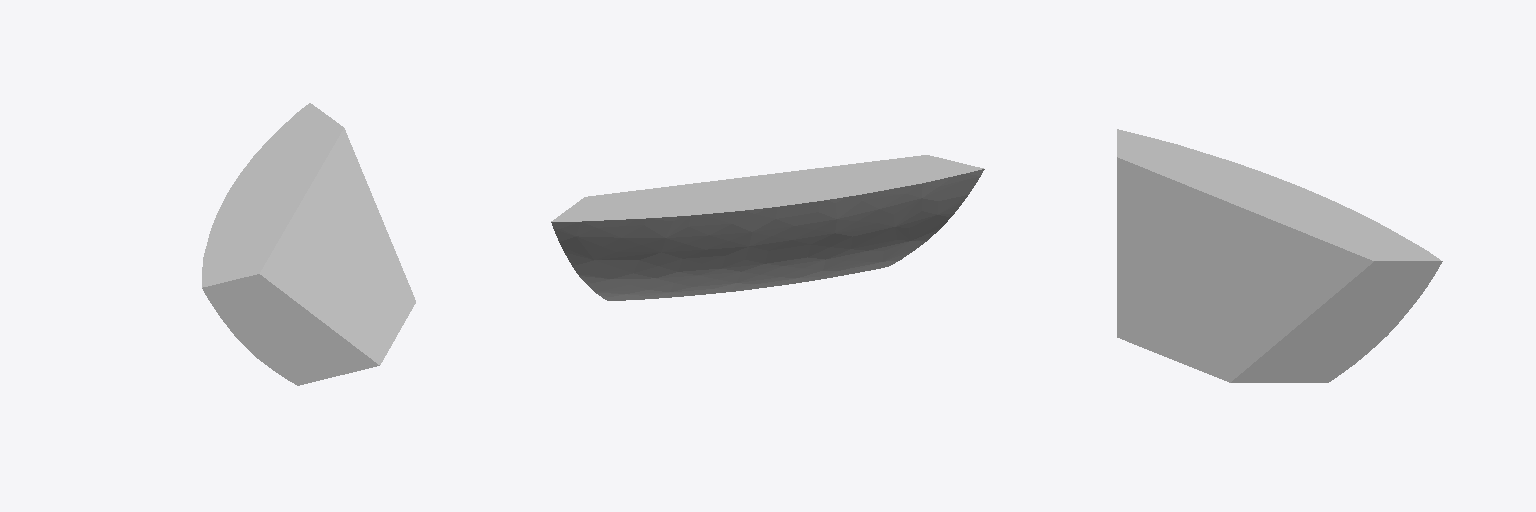
Rendered from pan_collision_22.obj.
3 renders of one model, left to right at view 1: azimuth 30°, elevation 25°; view 2: azimuth 150°, elevation 25°; view 3: azimuth 270°, elevation 25°, orthographic.
Size of the model in its own units: 0.0413 by 0.0177 by 0.0429.